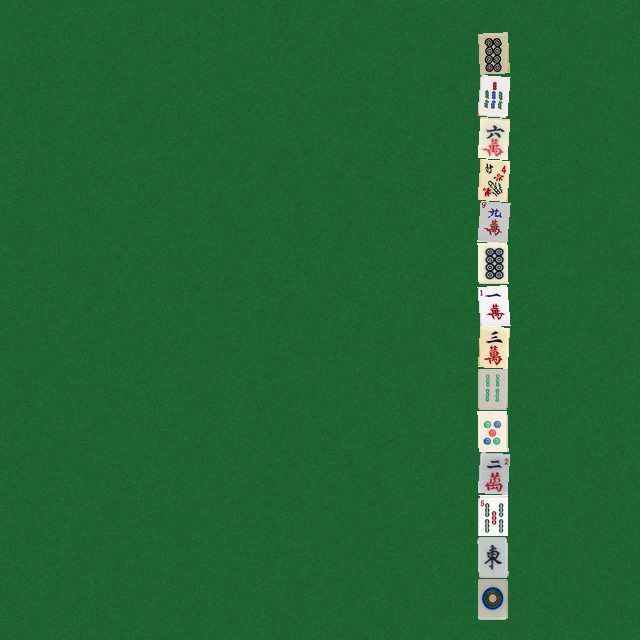tile: (477, 32, 507, 73), (477, 74, 507, 115), (477, 116, 507, 157), (477, 158, 507, 199), (477, 200, 507, 241), (477, 242, 507, 283), (477, 284, 507, 325), (477, 326, 507, 367), (477, 368, 507, 409), (477, 410, 507, 451), (477, 452, 507, 493), (477, 494, 507, 535), (477, 536, 507, 577), (477, 578, 507, 619)
